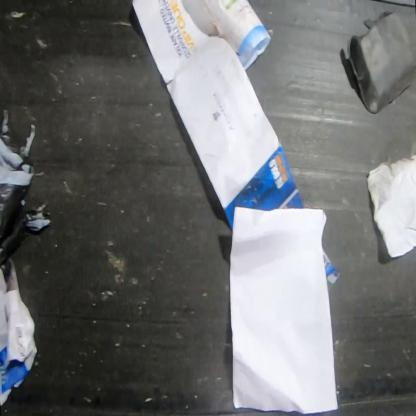rigid_plastic: (350, 9, 414, 116)
soft_plastic: (0, 108, 51, 267)
